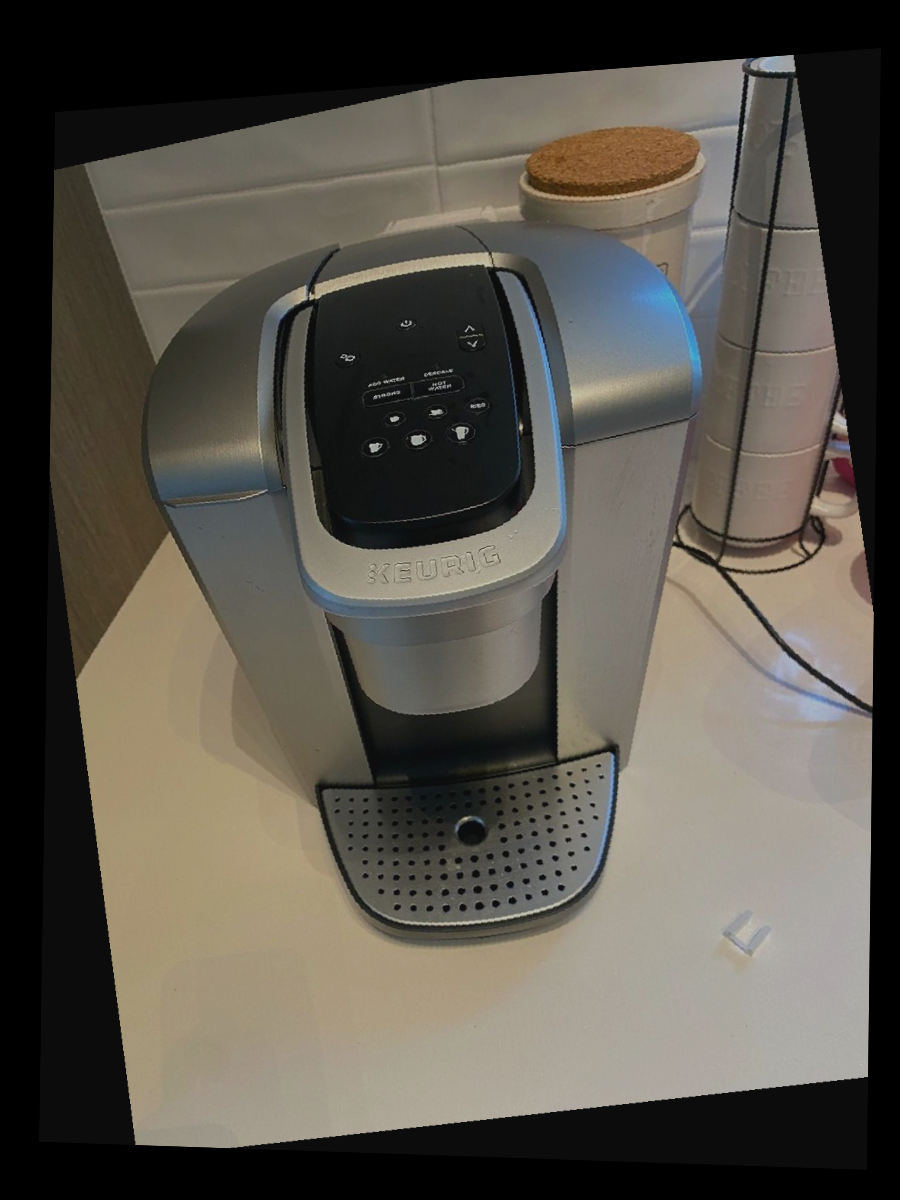10oz: (399, 429, 437, 455)
12oz: (444, 421, 482, 446)
4oz: (383, 410, 409, 429)
6oz: (423, 404, 449, 422)
8oz: (355, 435, 392, 460)
add_water: (349, 363, 409, 391)
descale: (408, 351, 468, 380)
hot: (410, 370, 471, 402)
iced: (466, 396, 492, 415)
power: (390, 314, 425, 335)
strong: (352, 382, 413, 414)
